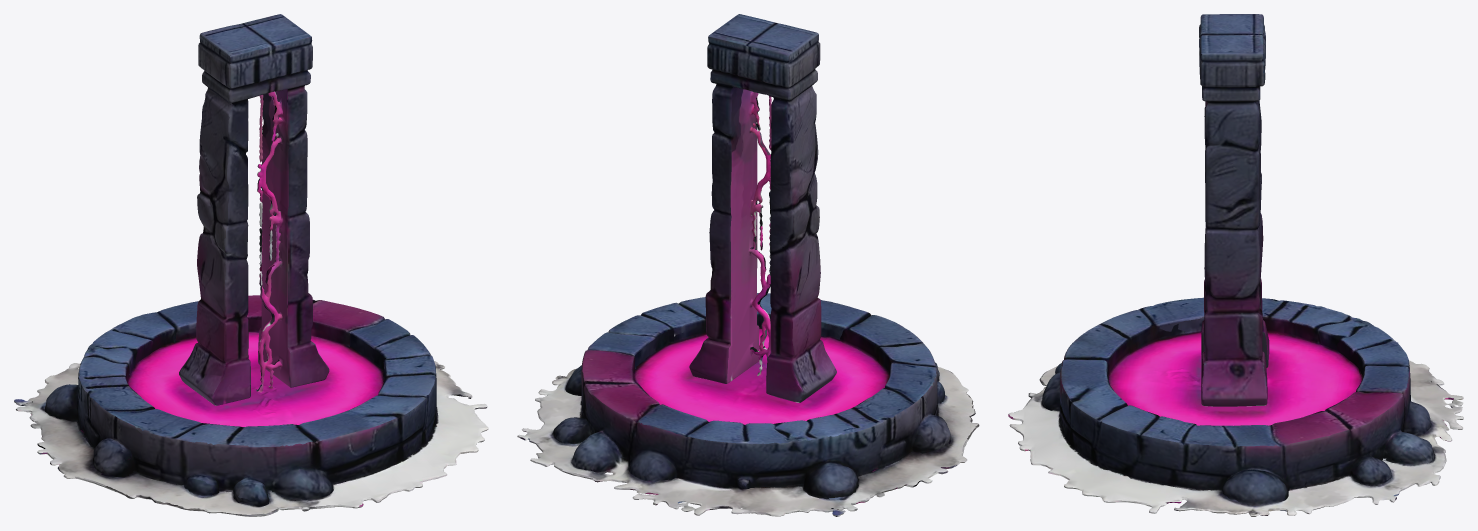
The model's file is support-column-generated-2026-05-17T18-42-32-113Z.medium.glb.
3 renders of one model, left to right at view 1: azimuth 30°, elevation 25°; view 2: azimuth 150°, elevation 25°; view 3: azimuth 270°, elevation 25°, orthographic.
Visible parts, largest first — view 1: temp_mesh.ply; view 2: temp_mesh.ply; view 3: temp_mesh.ply.
Part boxes in pixels (<box>): temp_mesh.ply: <box>14,14,488,516</box>; temp_mesh.ply: <box>517,14,979,516</box>; temp_mesh.ply: <box>1008,14,1463,516</box>.
Bounding box in the file's own units: 1.97 × 1.86 × 1.97.
1 material, 1 textured.
